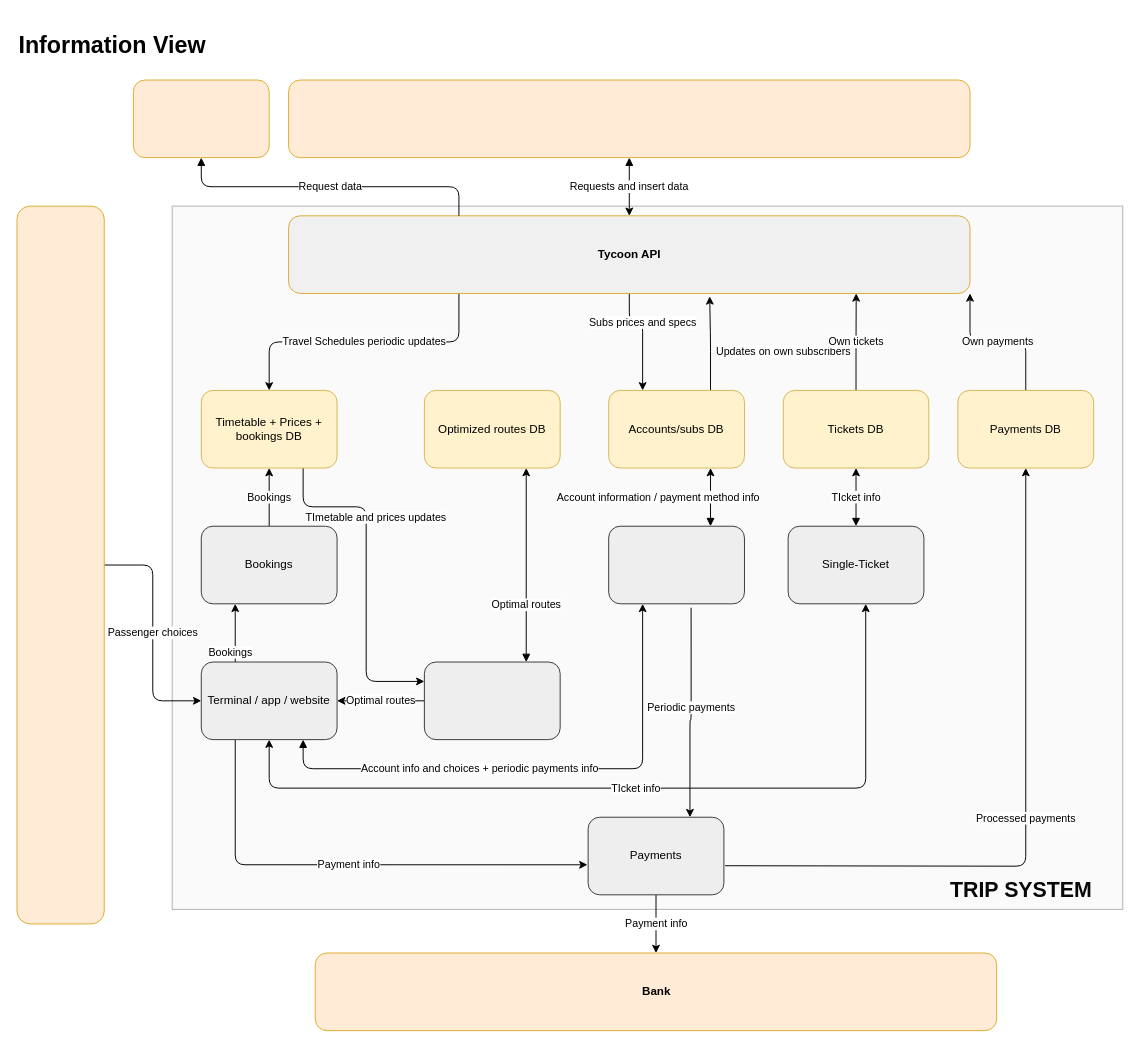
This 1140x1048 diagram has some shape labels left out. The box of each missing label's shape, as (x1, y1, x2, y2) in pixels:
Accounts (Subs): (608, 525, 744, 604)
Customer service: (132, 79, 269, 158)
Passenger: (16, 205, 104, 924)
Routes: (423, 661, 560, 740)
Tycoon: (288, 79, 970, 158)
